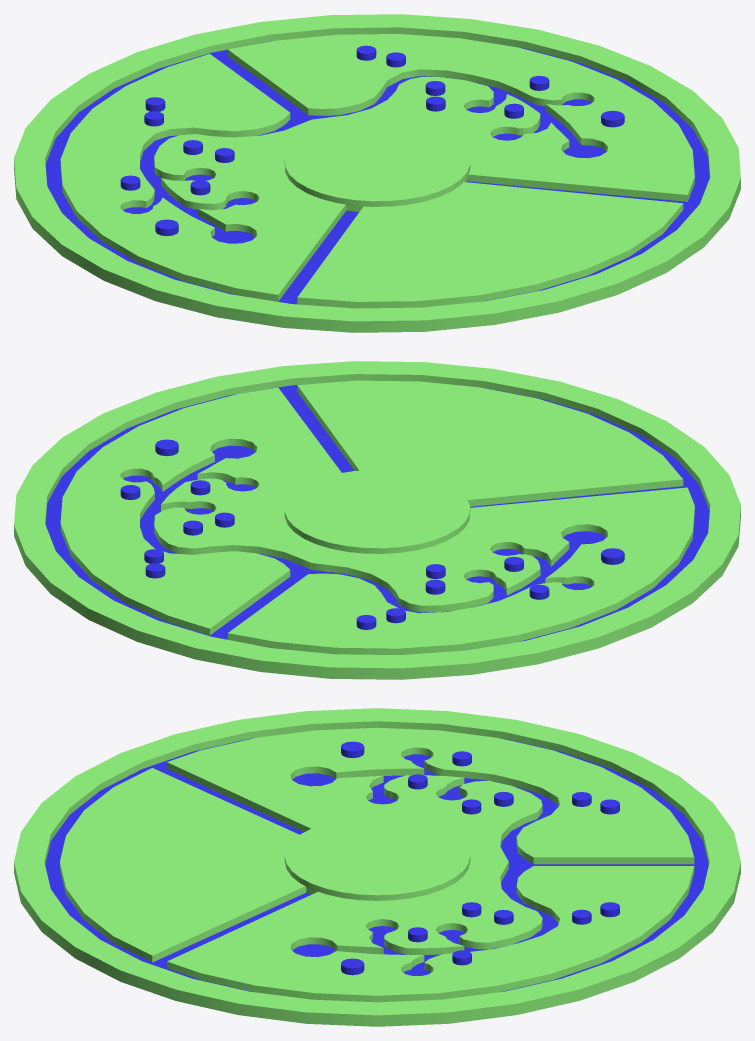
The model's file is breathingcircle_low.fbx.
The picture shows the model from 3 angles, top to bottom: view 1: azimuth 30°, elevation 25°; view 2: azimuth 150°, elevation 25°; view 3: azimuth 270°, elevation 25°; orthographic projection.
Visible parts, largest first — view 1: breathingcircle_low; view 2: breathingcircle_low; view 3: breathingcircle_low.
Part boxes in pixels (x1,y1,x2,y2): breathingcircle_low: (14,14,740,332); breathingcircle_low: (14,361,740,679); breathingcircle_low: (14,708,740,1026).
Size of the model in its own units: 289 by 8 by 289.
